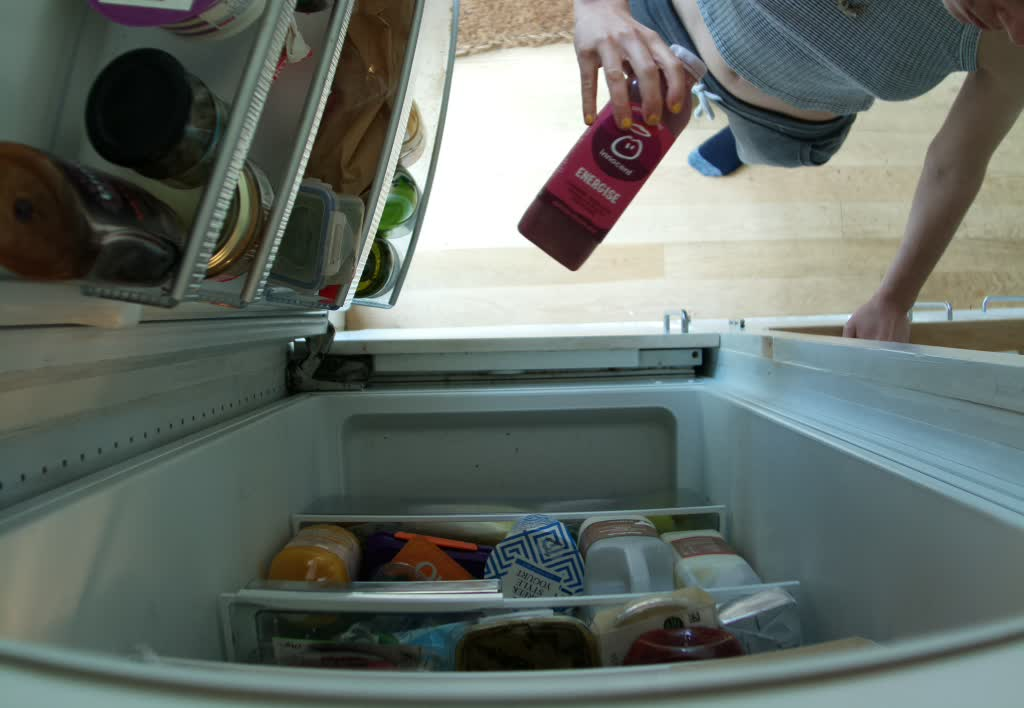juice: (515, 45, 710, 273)
